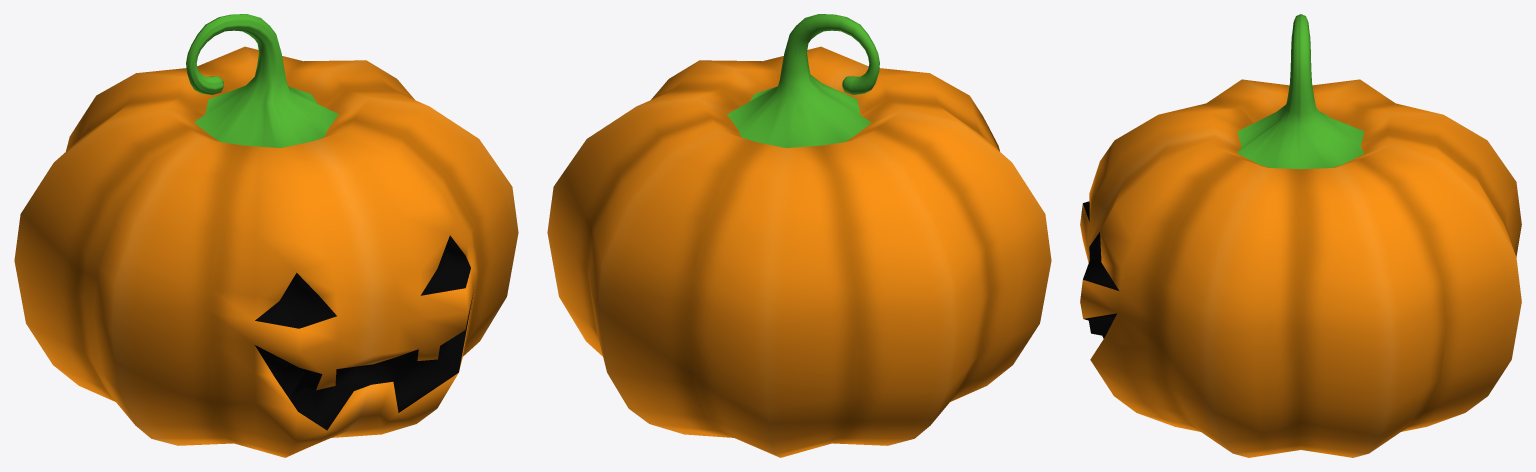
The model's file is jackolantern.fbx.
3 renders of one model, left to right at view 1: azimuth 30°, elevation 25°; view 2: azimuth 150°, elevation 25°; view 3: azimuth 270°, elevation 25°, orthographic. The views are drawn at different scales.
Parts seen in each view (by area): view 1: Jack-o'-lantern; view 2: Jack-o'-lantern; view 3: Jack-o'-lantern.
Part boxes in pixels (x1=…): Jack-o'-lantern: x1=14, y1=14, x2=518, y2=457; Jack-o'-lantern: x1=547, y1=14, x2=1051, y2=457; Jack-o'-lantern: x1=1080, y1=14, x2=1521, y2=457.
Size of the model in its own units: 193 by 177 by 193.
1 material, 1 textured.
